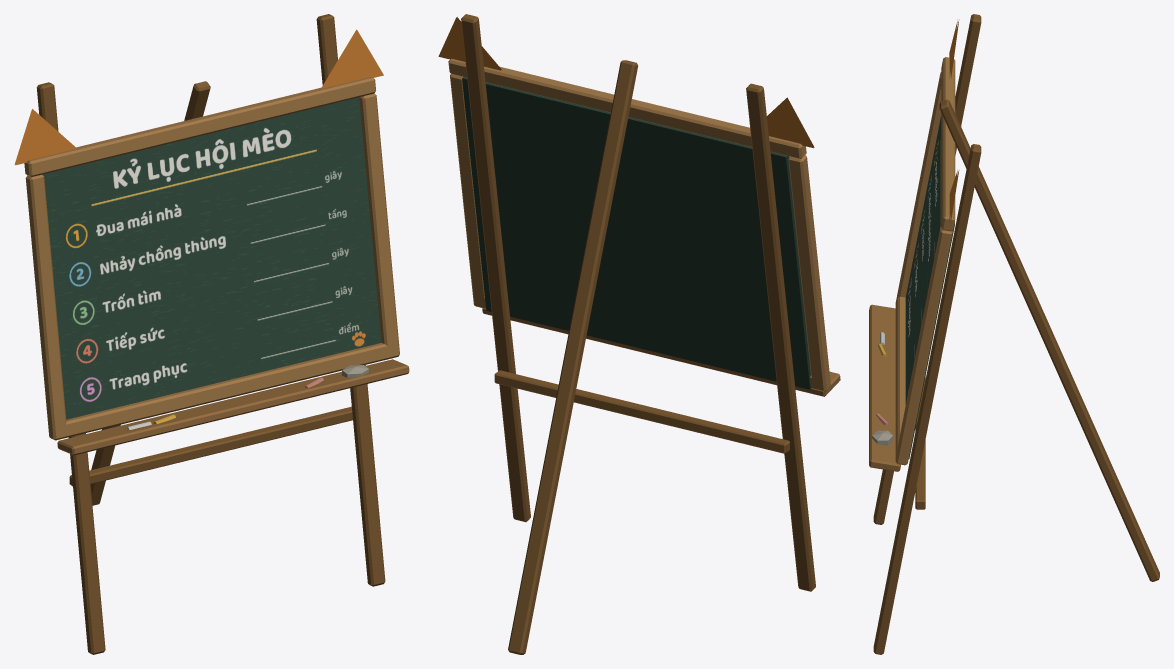
File: bang_ky_luc.glb
The picture shows the model from 3 angles, left to right: view 1: azimuth 30°, elevation 25°; view 2: azimuth 150°, elevation 25°; view 3: azimuth 270°, elevation 25°; orthographic projection. The views are drawn at different scales.
Visible parts, largest first — view 1: mat_phan, khung_bang, gia_chu_a, khay_phan; view 2: khung_bang, gia_chu_a, khay_phan; view 3: gia_chu_a, khung_bang, khay_phan, mat_phan.
Part boxes in pixels (bbox=[...]): mat_phan: bbox=[42, 97, 381, 419]; khung_bang: bbox=[14, 29, 399, 440]; gia_chu_a: bbox=[36, 14, 385, 654]; khay_phan: bbox=[57, 359, 409, 455]; khung_bang: bbox=[438, 17, 830, 391]; gia_chu_a: bbox=[461, 14, 815, 654]; khay_phan: bbox=[482, 308, 840, 396]; gia_chu_a: bbox=[873, 14, 1159, 654]; khung_bang: bbox=[895, 19, 959, 465]; khay_phan: bbox=[869, 304, 900, 471]; mat_phan: bbox=[905, 115, 941, 404].
Size of the model in its own units: 1.16 by 1.6 by 0.8324.
Materials: 2 (1 with a texture image).
